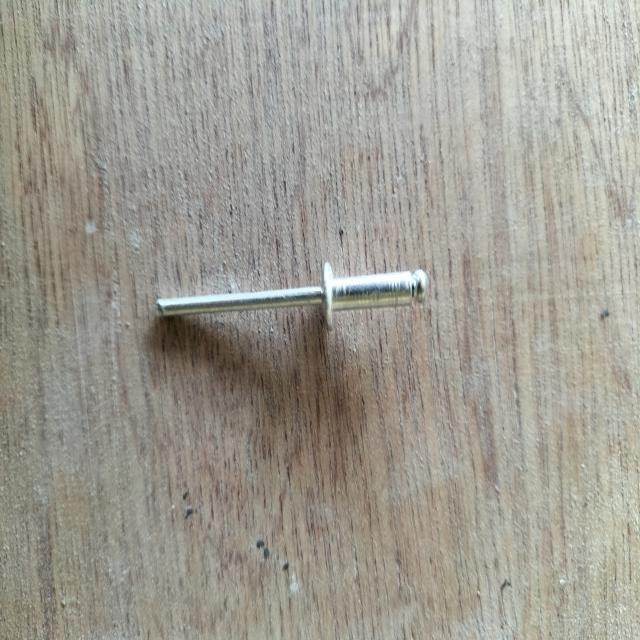rivet: (156, 262, 428, 331)
